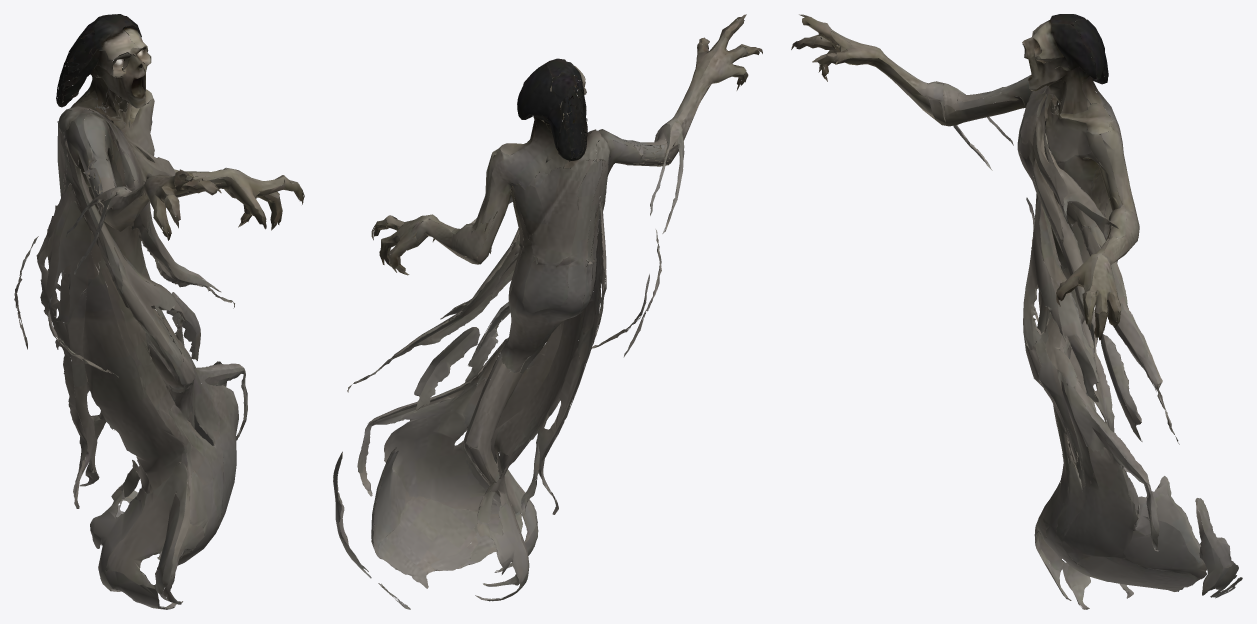
File: ghost.glb
The picture shows the model from 3 angles, left to right: view 1: azimuth 30°, elevation 25°; view 2: azimuth 150°, elevation 25°; view 3: azimuth 270°, elevation 25°; orthographic projection. The views are drawn at different scales.
Visible parts, largest first — view 1: node_0; view 2: node_0; view 3: node_0.
Boxes of the visible parts, x1,y1,x2,y2 form: node_0: (14,14,304,609); node_0: (333,14,762,609); node_0: (791,14,1242,609).
Size of the model in its own units: 0.5272 by 0.9981 by 0.7253.
Materials: 1 (1 with a texture image).
